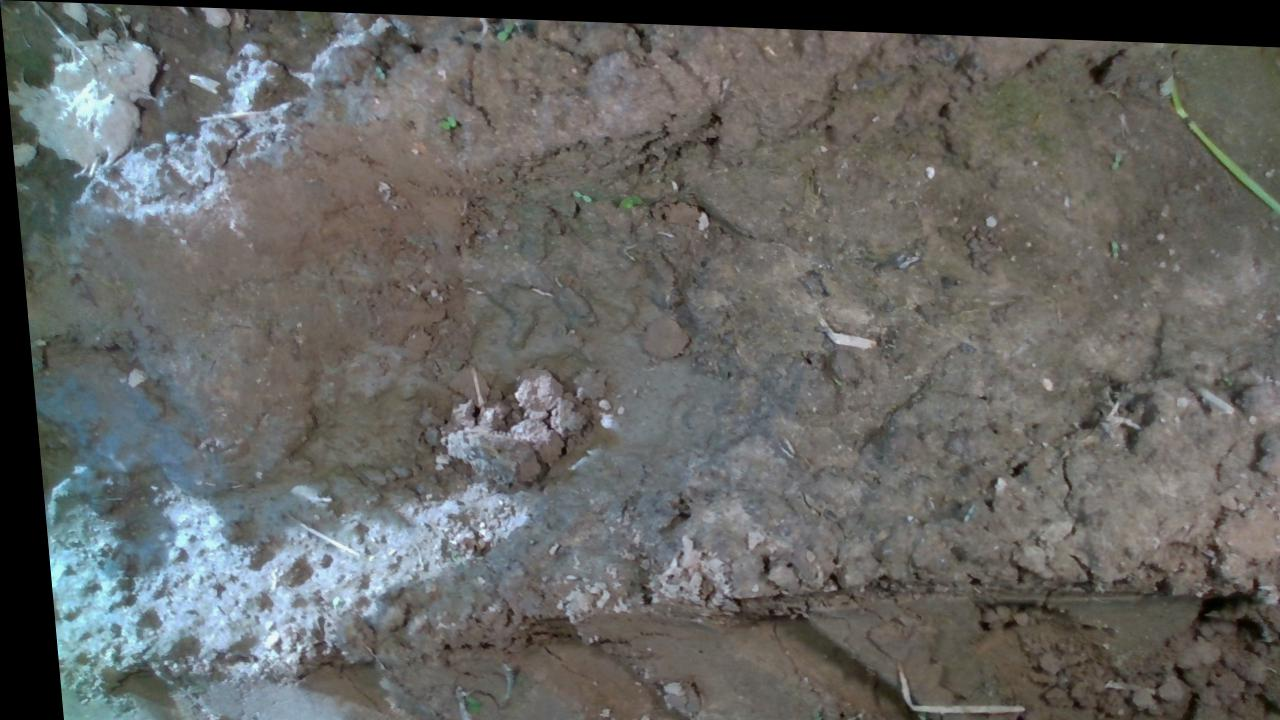weed: (566, 182, 590, 199), (432, 110, 455, 127)
